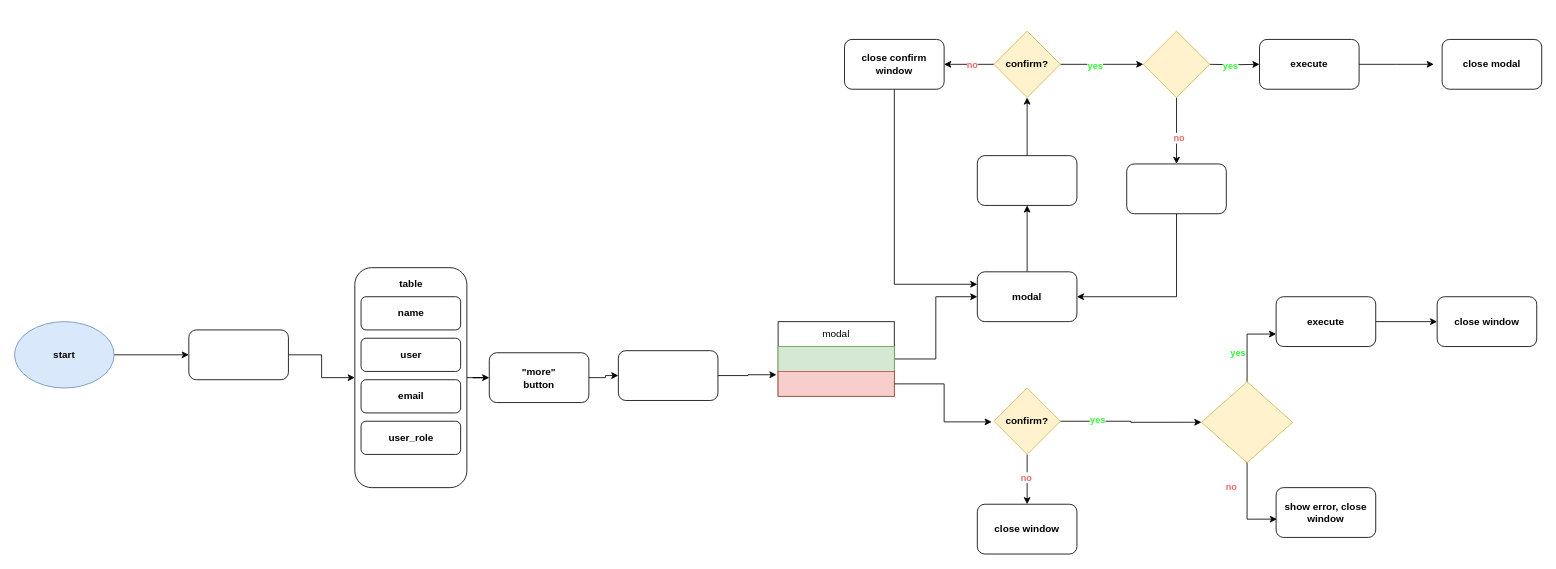
Image size: 1556x569. Some labels were removed from this diagram. Each missing label, with the box of its shape:
delete: (777, 371, 894, 396)
edit: (777, 346, 894, 371)
open modal with user info and options: (618, 350, 718, 400)
save: (976, 155, 1077, 205)
show feedback: (1126, 163, 1226, 214)
user admin role?: (1201, 381, 1293, 463)
user.index: (188, 329, 288, 380)
validate?: (1142, 30, 1210, 98)
